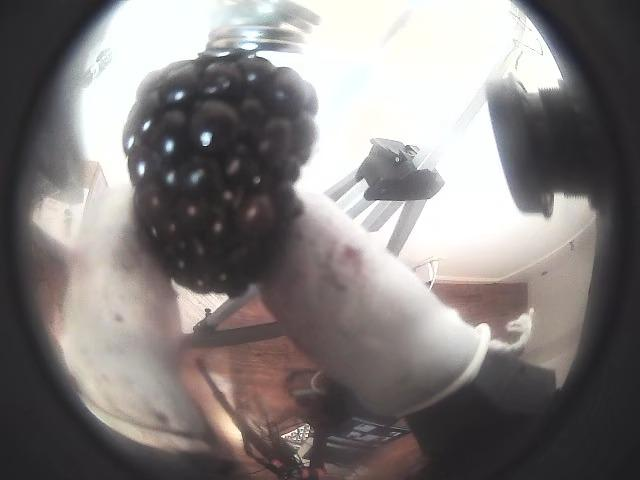berry: (124, 50, 316, 295)
gripper: (259, 190, 495, 416), (59, 185, 213, 451)
lense: (0, 0, 155, 479), (497, 0, 639, 479)
